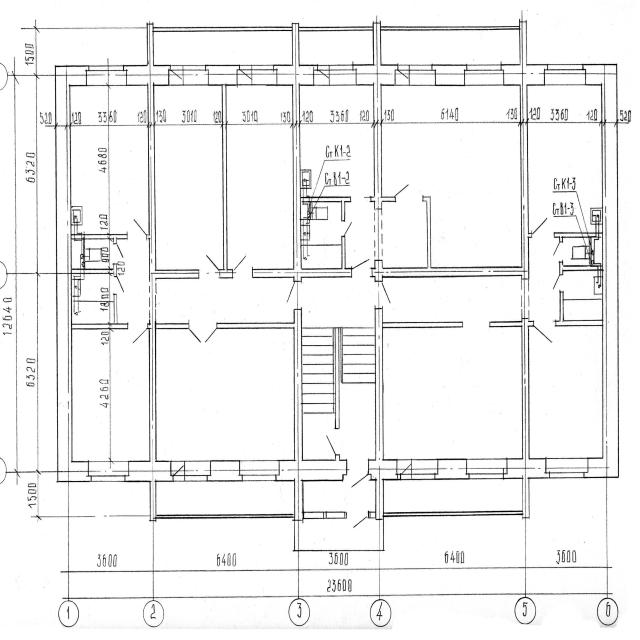Bathrooms: (72, 275, 114, 323), (301, 203, 341, 244), (71, 240, 113, 267), (564, 271, 602, 299), (563, 239, 602, 264)
Corridors: (156, 277, 294, 323), (383, 276, 521, 322), (153, 32, 292, 65), (381, 31, 519, 64), (156, 481, 294, 513), (384, 480, 522, 512), (382, 202, 427, 267), (303, 474, 376, 512), (117, 239, 149, 323), (529, 239, 559, 320), (299, 32, 373, 64), (301, 277, 374, 307), (346, 203, 374, 267)
Doors: (346, 459, 369, 490), (188, 323, 218, 345), (533, 321, 557, 344), (394, 183, 423, 201), (199, 253, 219, 279), (232, 253, 253, 277), (532, 216, 554, 237), (375, 282, 392, 308), (128, 324, 148, 346), (127, 217, 147, 239), (285, 282, 301, 309), (352, 256, 372, 277), (374, 209, 382, 260), (347, 512, 368, 531), (325, 429, 339, 456), (396, 459, 412, 480), (170, 461, 185, 482), (237, 65, 252, 86), (521, 279, 529, 318), (149, 279, 156, 322), (169, 65, 184, 85), (395, 65, 410, 85), (314, 65, 328, 86), (114, 276, 127, 295), (113, 242, 124, 264), (552, 242, 563, 262), (552, 275, 564, 292), (341, 221, 354, 236), (463, 322, 490, 328), (351, 196, 371, 202)
LBwalls: (371, 21, 549, 283), (251, 22, 353, 283), (123, 21, 200, 279), (55, 65, 92, 482), (275, 308, 347, 522), (582, 64, 619, 478), (124, 322, 173, 522), (503, 318, 550, 518), (352, 21, 399, 210), (367, 306, 401, 520), (207, 460, 243, 482), (205, 64, 240, 86), (432, 64, 467, 86), (435, 459, 469, 480), (219, 269, 233, 279)
Offices: (382, 85, 522, 267), (156, 329, 294, 461), (383, 328, 522, 459), (155, 86, 223, 270), (227, 85, 293, 270), (70, 85, 149, 234), (529, 85, 602, 232), (72, 329, 149, 461), (529, 327, 602, 457), (299, 85, 374, 196)
Stairs: (301, 308, 376, 459)
Walls: (555, 292, 603, 327), (301, 236, 345, 269), (300, 196, 351, 222), (221, 85, 228, 270), (384, 511, 523, 517), (71, 263, 116, 278), (559, 261, 603, 276), (422, 195, 431, 268), (71, 234, 128, 245), (554, 231, 602, 243), (156, 514, 295, 518), (153, 27, 292, 31), (217, 322, 295, 329), (383, 322, 464, 328), (381, 26, 520, 29), (335, 328, 339, 429), (299, 26, 373, 31), (71, 323, 128, 329), (303, 512, 347, 518), (156, 323, 189, 329), (489, 322, 522, 327), (114, 293, 117, 324), (382, 196, 396, 202), (369, 512, 375, 519), (527, 232, 533, 238), (528, 321, 534, 327), (335, 455, 340, 461), (371, 196, 375, 202), (146, 234, 150, 239)
Windows: (544, 64, 586, 85), (88, 461, 129, 482), (464, 64, 504, 85), (546, 458, 588, 478), (86, 66, 127, 86), (240, 460, 279, 481), (467, 459, 507, 479), (184, 460, 211, 481), (409, 64, 435, 85), (330, 65, 357, 85), (411, 460, 438, 480), (252, 65, 277, 86), (183, 65, 209, 85)
